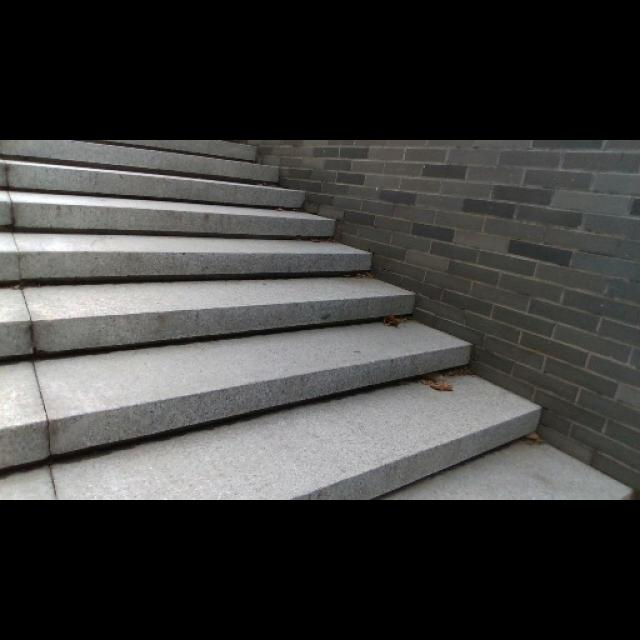Stairs: (0, 137, 542, 498)
